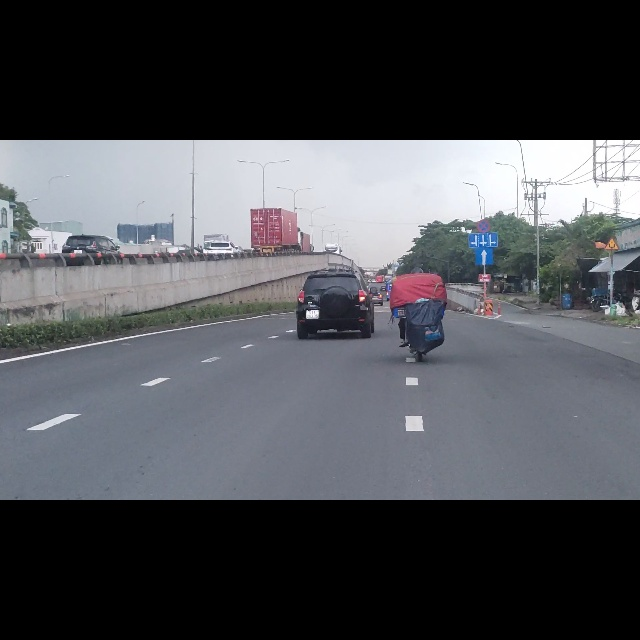bien_cam: (475, 191, 493, 222), (605, 172, 619, 195), (477, 141, 490, 165)
